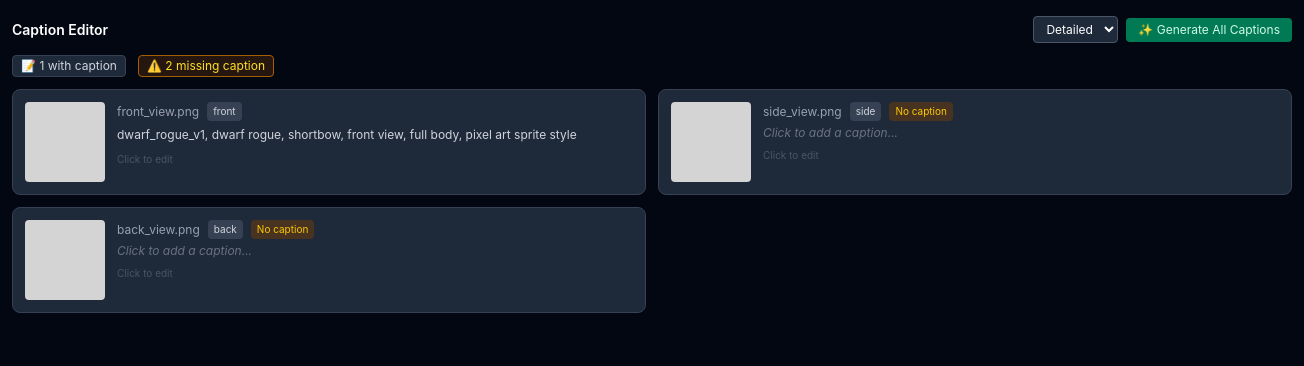
CaptionEditor › enters edit mode when clicking on a caption
Expected: the text "dwarf_rogue_v1" is shown, top-left (117, 127), bottom-right (577, 142)
Note: Click on the caption text to enter edit mode
What coordinates should you click on to do the following:
click the text "dwarf_rogue_v1"
I would click on:
 (375, 135)
Its box is top-left (117, 125), bottom-right (633, 144).
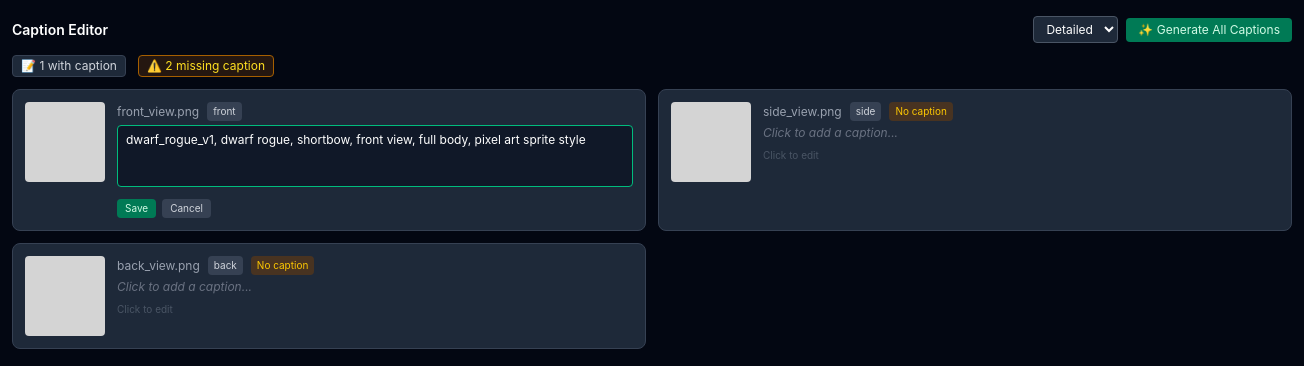
Expected: the text box is shown, top-left (117, 125), bottom-right (633, 187)
Expected: the button "Save" is shown, top-left (117, 199), bottom-right (156, 218)
Expected: the button "Cancel" is shown, top-left (162, 199), bottom-right (211, 218)
